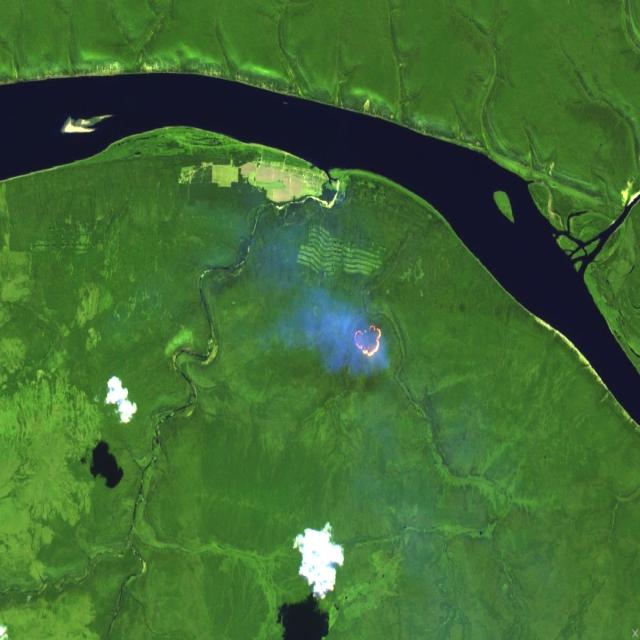fire: (347, 316, 389, 369)
